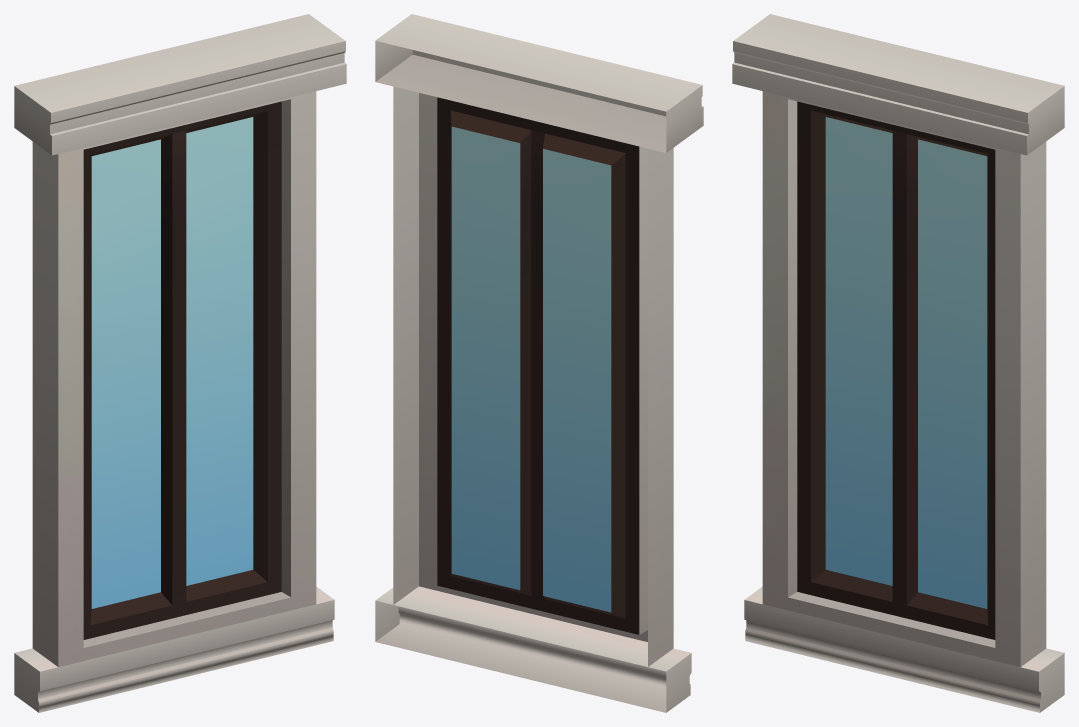
Rendered from Window04.fbx.
The picture shows the model from 3 angles, left to right: view 1: azimuth 30°, elevation 25°; view 2: azimuth 150°, elevation 25°; view 3: azimuth 330°, elevation 25°; orthographic projection.
Visible parts, largest first — view 1: Window04; view 2: Window04; view 3: Window04.
Boxes of the visible parts, box(x1,y1,x2,y2) form: Window04: box(14, 14, 346, 712); Window04: box(375, 14, 703, 712); Window04: box(732, 14, 1064, 712).
Bounding box in the file's own units: 0.3443 × 0.6797 × 0.0767.
